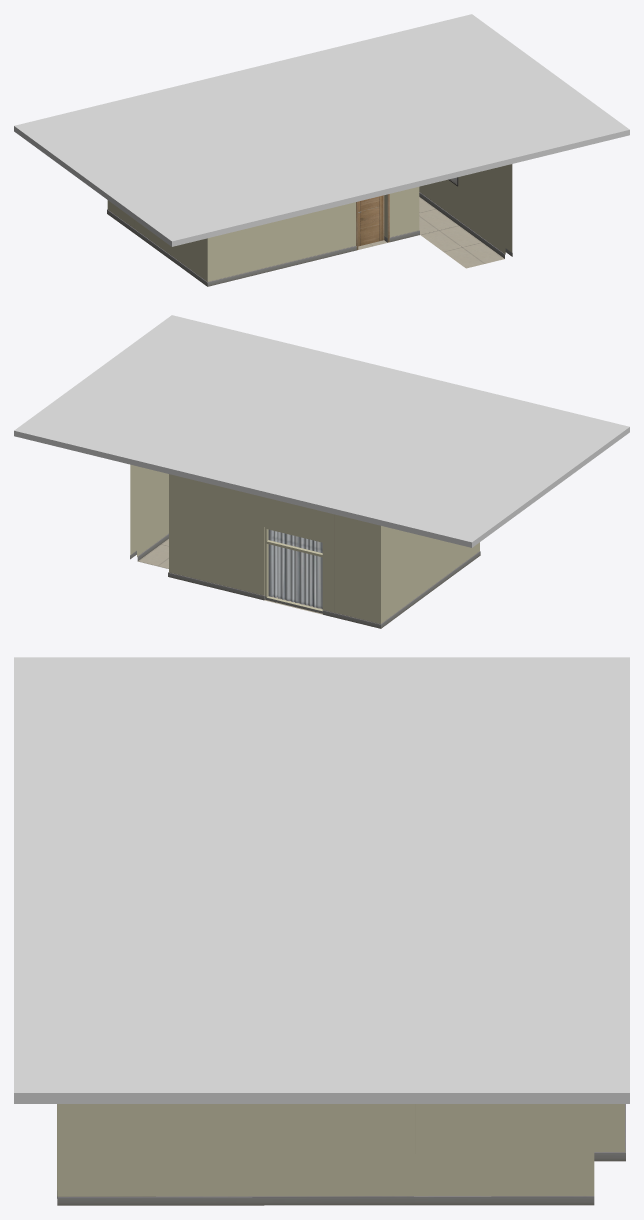
File: Salle-attente_01.FBX
3 views of the same model, one above another, from view 1: azimuth 30°, elevation 25°; view 2: azimuth 150°, elevation 25°; view 3: azimuth 270°, elevation 25° (orthographic). The views are drawn at different scales.
Visible parts, largest first — view 1: Obj-Toit, Obj-Mur-Coin-240-A003, Obj-porte-90-A-002; view 2: Obj-Toit, Obj-Mur-Coin-240-A003, Obj-lampes; view 3: Obj-Toit, Obj-Mur-Coin-240-A003.
Boxes of the visible parts, <box> form: Obj-Toit: <box>14,14,629,246</box>; Obj-Mur-Coin-240-A003: <box>107,164,512,286</box>; Obj-porte-90-A-002: <box>358,195,384,246</box>; Obj-Toit: <box>14,315,629,547</box>; Obj-Mur-Coin-240-A003: <box>130,464,480,628</box>; Obj-lampes: <box>268,529,322,608</box>; Obj-Toit: <box>14,657,629,1103</box>; Obj-Mur-Coin-240-A003: <box>57,1104,625,1205</box>.
Size of the model in its own units: 1382 by 316 by 826.
